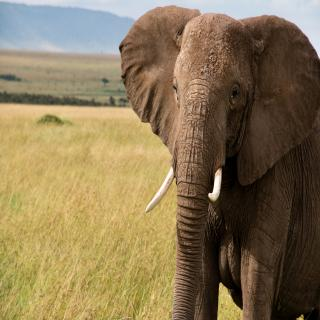Elephant: (116, 3, 320, 320)
